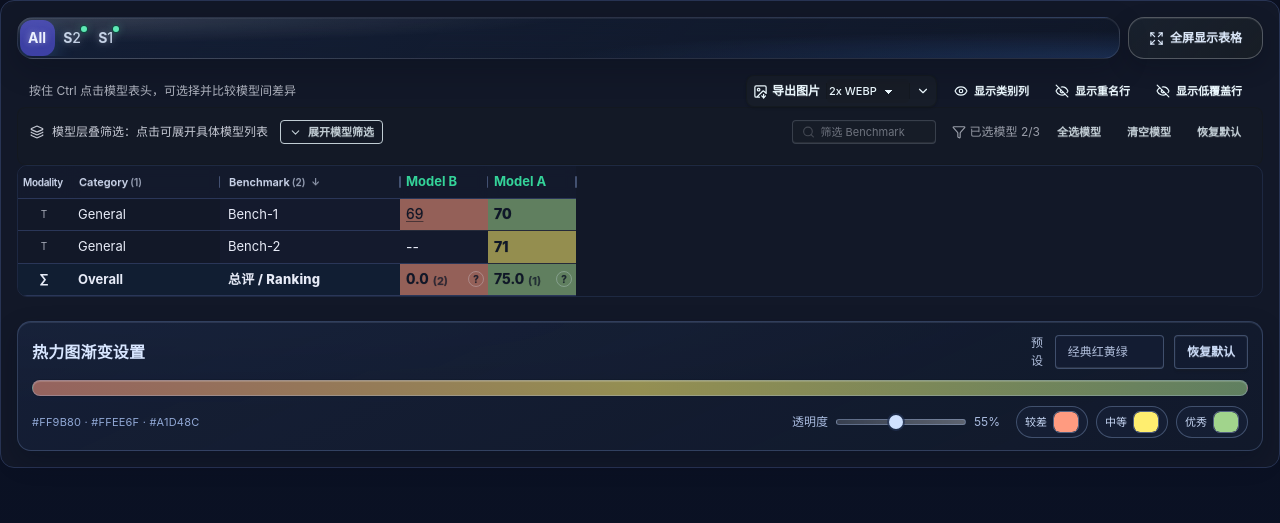
Test: BenchmarkMatrix 跨页签模型覆盖 › 显示跨页签模型覆盖率并隐藏 0 覆盖模型
Click the button "展开模型筛选": (332, 132) [280, 120, 383, 144]
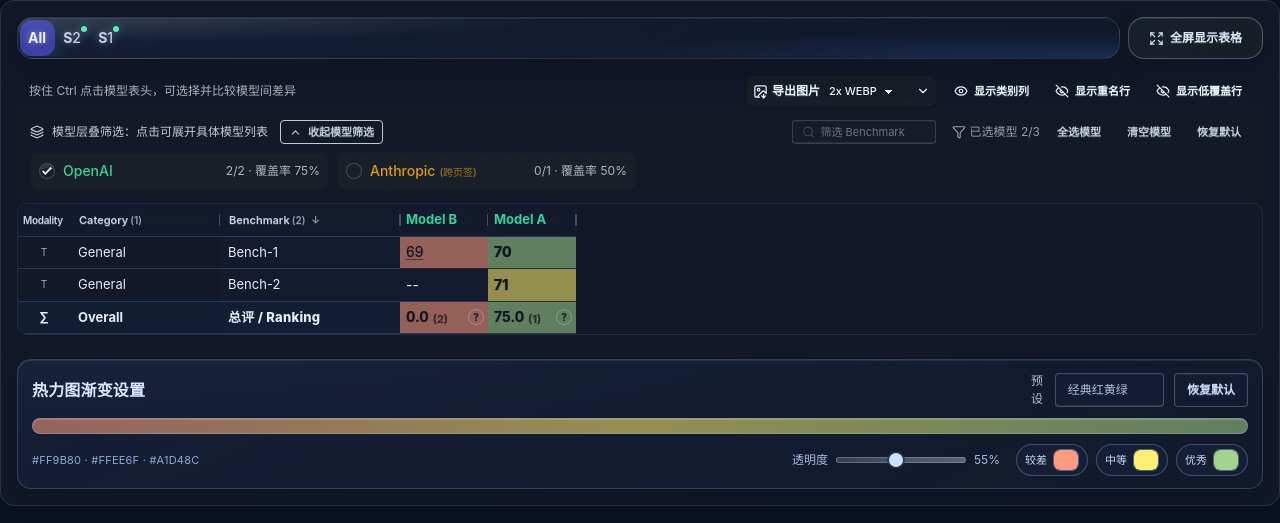
Check: the text "0/1 · 覆盖率 50%" is shown, box [534, 163, 627, 179]
